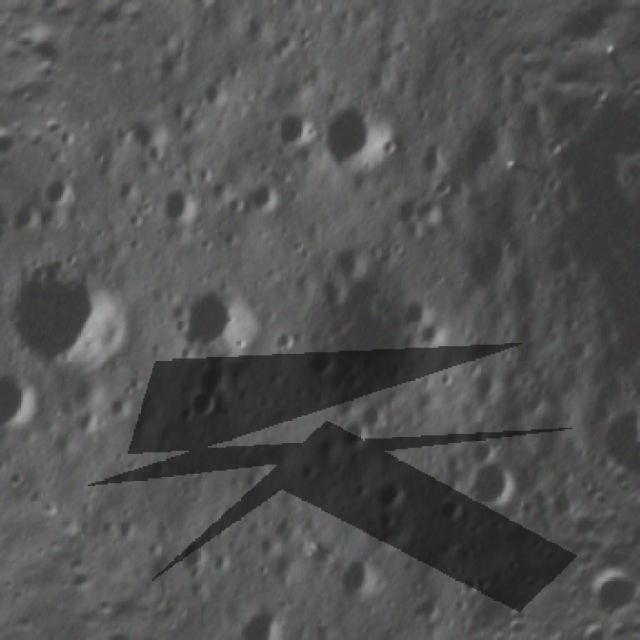crater: (0, 247, 145, 393), (160, 274, 268, 378), (316, 96, 404, 187), (455, 450, 534, 528), (360, 472, 431, 546), (584, 390, 640, 469), (324, 546, 390, 612), (0, 361, 48, 445), (165, 528, 227, 590), (237, 168, 297, 228), (150, 183, 205, 239), (264, 105, 314, 158), (328, 406, 378, 456), (232, 601, 295, 640), (184, 382, 231, 430), (38, 169, 78, 209), (412, 314, 450, 352), (265, 327, 301, 362), (430, 362, 464, 398), (0, 280, 12, 367), (456, 571, 486, 604), (54, 126, 83, 156), (187, 0, 225, 14), (0, 209, 11, 257)
